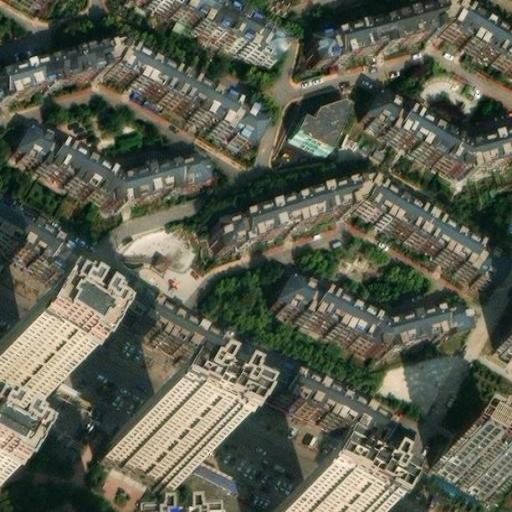building: (42, 245, 281, 400), (219, 171, 508, 285), (18, 123, 207, 208), (308, 0, 512, 69), (282, 272, 468, 346), (369, 89, 512, 170), (137, 0, 278, 69), (272, 368, 386, 452), (101, 436, 187, 501), (282, 83, 354, 159), (0, 331, 61, 398), (434, 439, 504, 493), (499, 319, 512, 347)
